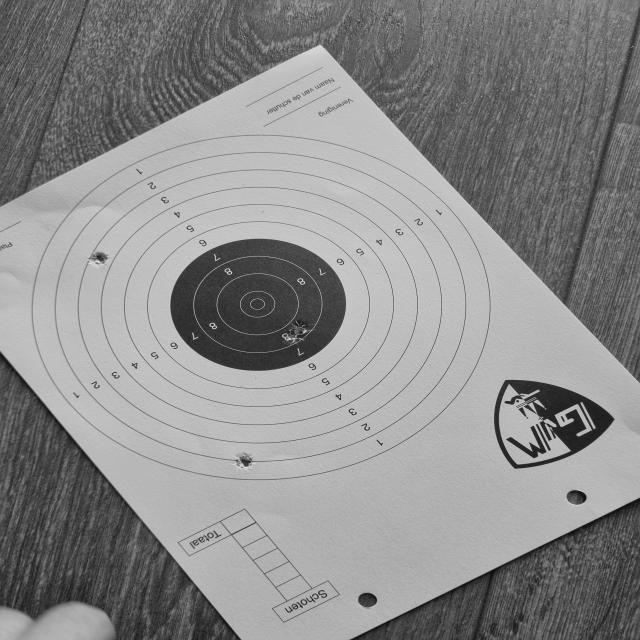2: (228, 452, 260, 470)
3: (84, 248, 113, 268)
7: (291, 320, 310, 335), (285, 330, 300, 345)
Target: (30, 132, 486, 484)
black_contour: (170, 237, 348, 372)
